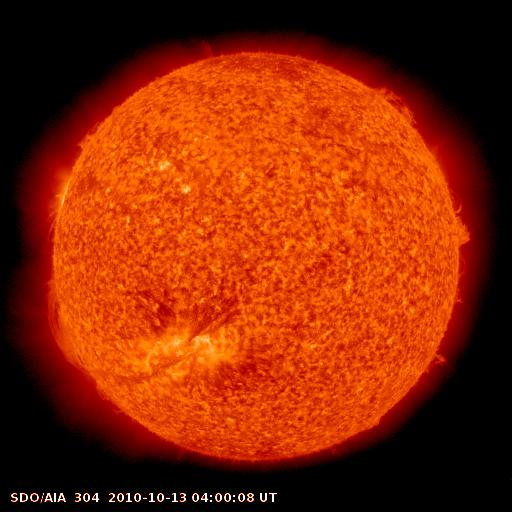prominence: (42, 271, 93, 374), (35, 166, 82, 246), (442, 180, 479, 250), (369, 84, 421, 132), (87, 379, 133, 427), (70, 119, 116, 159), (446, 251, 473, 310), (418, 346, 456, 387)
